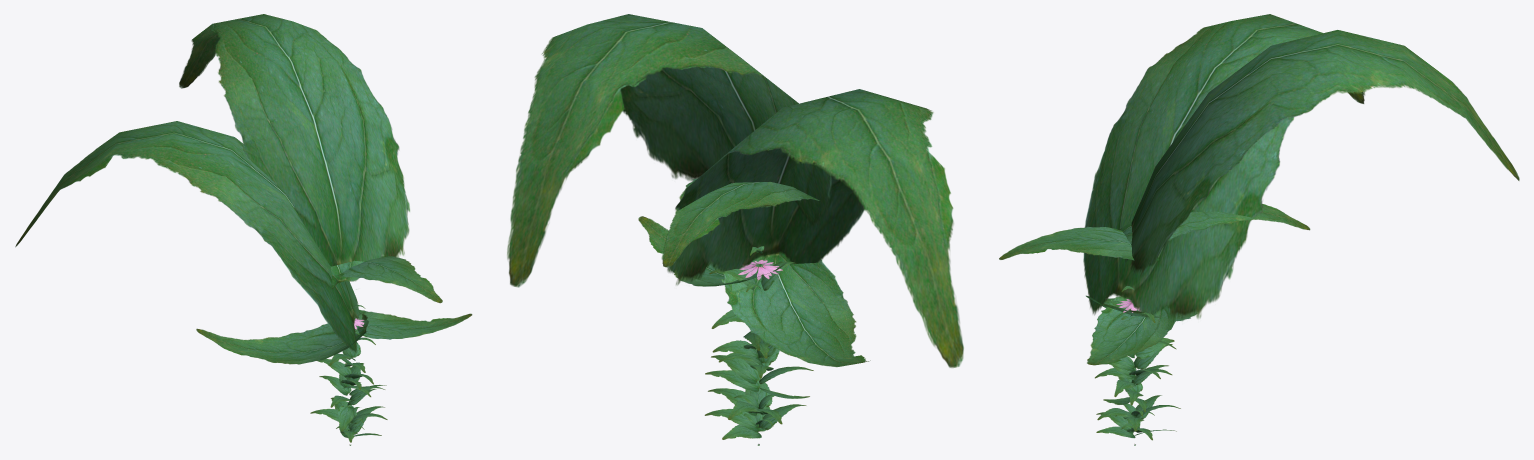
The picture shows the model from 3 angles, left to right: view 1: azimuth 30°, elevation 25°; view 2: azimuth 150°, elevation 25°; view 3: azimuth 270°, elevation 25°; orthographic projection. The views are drawn at different scales.
Visible parts, largest first — view 1: G-.021, G-.033, G-.046, G-.015, G-.045; view 2: G-.021, G-.033, G-.046, G-.014, G-.045, G-.012, G-.047; view 3: G-.033, G-.021, G-.045, G-.015, G-.014.
Part boxes in pixels (x1=…): G-.021: x1=179, y1=14, x2=409, y2=266; G-.033: x1=15, y1=121, x2=359, y2=352; G-.046: x1=196, y1=313, x2=368, y2=364; G-.015: x1=337, y1=256, x2=442, y2=303; G-.045: x1=355, y1=309, x2=472, y2=339; G-.021: x1=507, y1=14, x2=831, y2=287; G-.033: x1=667, y1=89, x2=963, y2=367; G-.046: x1=722, y1=251, x2=870, y2=366; G-.014: x1=661, y1=178, x2=819, y2=267; G-.045: x1=638, y1=216, x2=786, y2=286; G-.012: x1=711, y1=355, x2=760, y2=384; G-.047: x1=705, y1=370, x2=760, y2=391; G-.033: x1=1083, y1=14, x2=1364, y2=321; G-.021: x1=1125, y1=30, x2=1519, y2=277; G-.045: x1=1087, y1=296, x2=1177, y2=365; G-.015: x1=999, y1=226, x2=1159, y2=261; G-.014: x1=1119, y1=204, x2=1310, y2=243.
Bounding box in the file's own units: 136 × 133 × 155.
3 materials, 3 textured.
